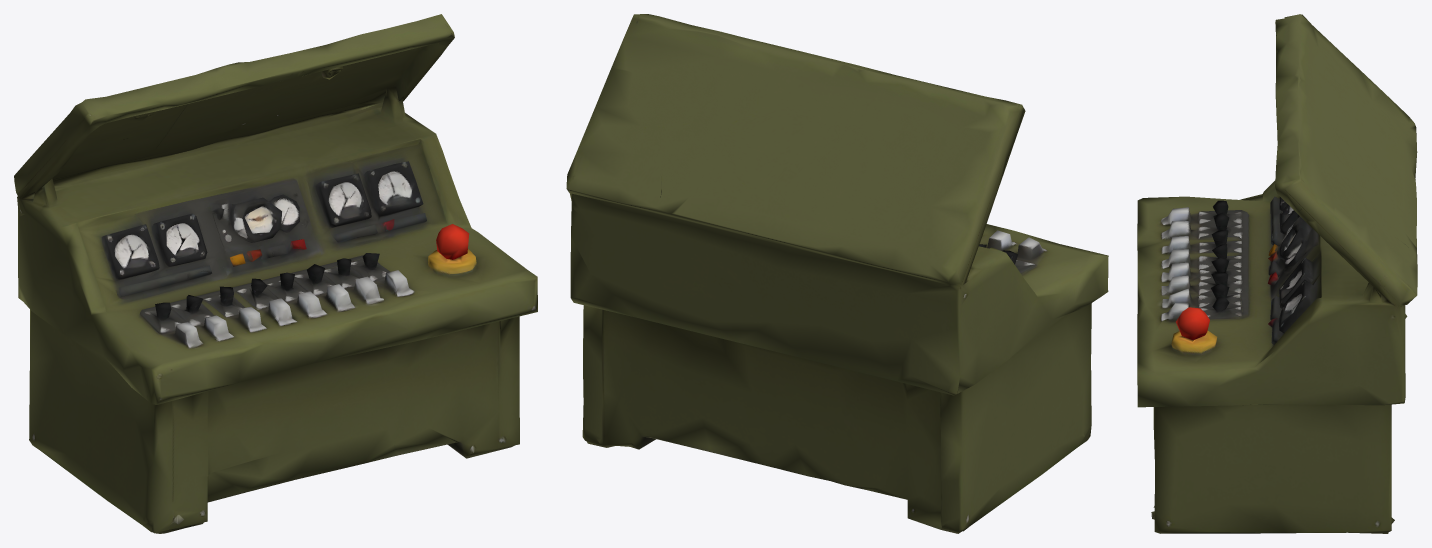
The model's file is control_console.glb.
The picture shows the model from 3 angles, left to right: view 1: azimuth 30°, elevation 25°; view 2: azimuth 150°, elevation 25°; view 3: azimuth 270°, elevation 25°; orthographic projection. The views are drawn at different scales.
Visible parts, largest first — view 1: tripo_node_ed086355-b37c-48e4-a1af-2dead70646d8; view 2: tripo_node_ed086355-b37c-48e4-a1af-2dead70646d8; view 3: tripo_node_ed086355-b37c-48e4-a1af-2dead70646d8.
Boxes of the visible parts, bbox=[...] form: tripo_node_ed086355-b37c-48e4-a1af-2dead70646d8: bbox=[14, 14, 537, 533]; tripo_node_ed086355-b37c-48e4-a1af-2dead70646d8: bbox=[566, 14, 1108, 533]; tripo_node_ed086355-b37c-48e4-a1af-2dead70646d8: bbox=[1137, 14, 1417, 533].
Size of the model in its own units: 1.37 by 1.3 by 0.9228.
1 material, 1 textured.
